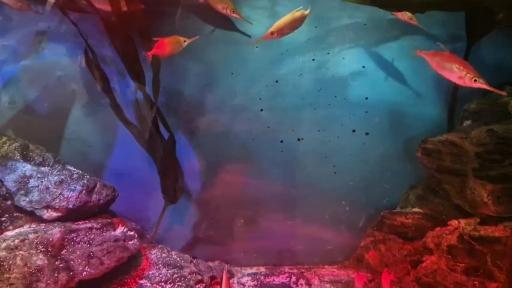Fish: (416, 43, 507, 95), (364, 49, 421, 97), (176, 5, 251, 37), (251, 7, 310, 45), (145, 36, 199, 60), (200, 0, 252, 24), (391, 12, 425, 29), (0, 0, 32, 11), (381, 269, 394, 287), (221, 265, 230, 287), (354, 273, 367, 287), (46, 0, 55, 13)
